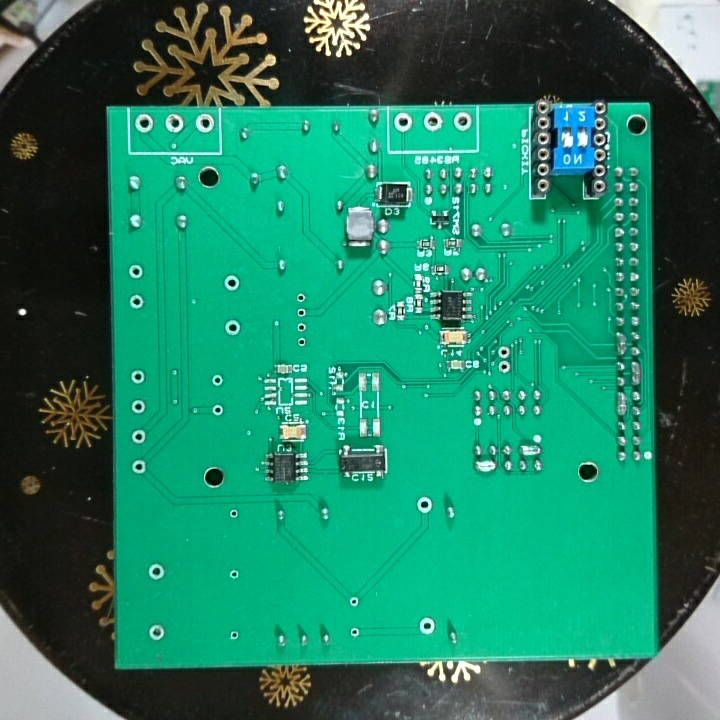F: (450, 110, 474, 134), (162, 113, 187, 135), (392, 110, 414, 135), (422, 110, 444, 134), (133, 112, 155, 135), (193, 112, 215, 134), (144, 560, 165, 583), (221, 272, 242, 295), (146, 621, 167, 643), (417, 615, 437, 638), (127, 367, 148, 388), (415, 495, 435, 516), (222, 318, 243, 338), (126, 262, 146, 282), (128, 458, 149, 477), (126, 292, 145, 312), (129, 427, 148, 446), (130, 398, 148, 418), (291, 304, 313, 320), (210, 400, 227, 420), (345, 594, 364, 610), (292, 320, 311, 336), (291, 291, 312, 305), (495, 343, 512, 360), (292, 335, 311, 350), (496, 360, 513, 376), (209, 372, 225, 389), (346, 624, 364, 639), (226, 629, 242, 645), (226, 567, 242, 583), (227, 506, 241, 522)
P: (516, 442, 546, 458), (612, 329, 628, 359), (473, 457, 498, 475), (629, 359, 643, 390), (614, 389, 628, 417)
